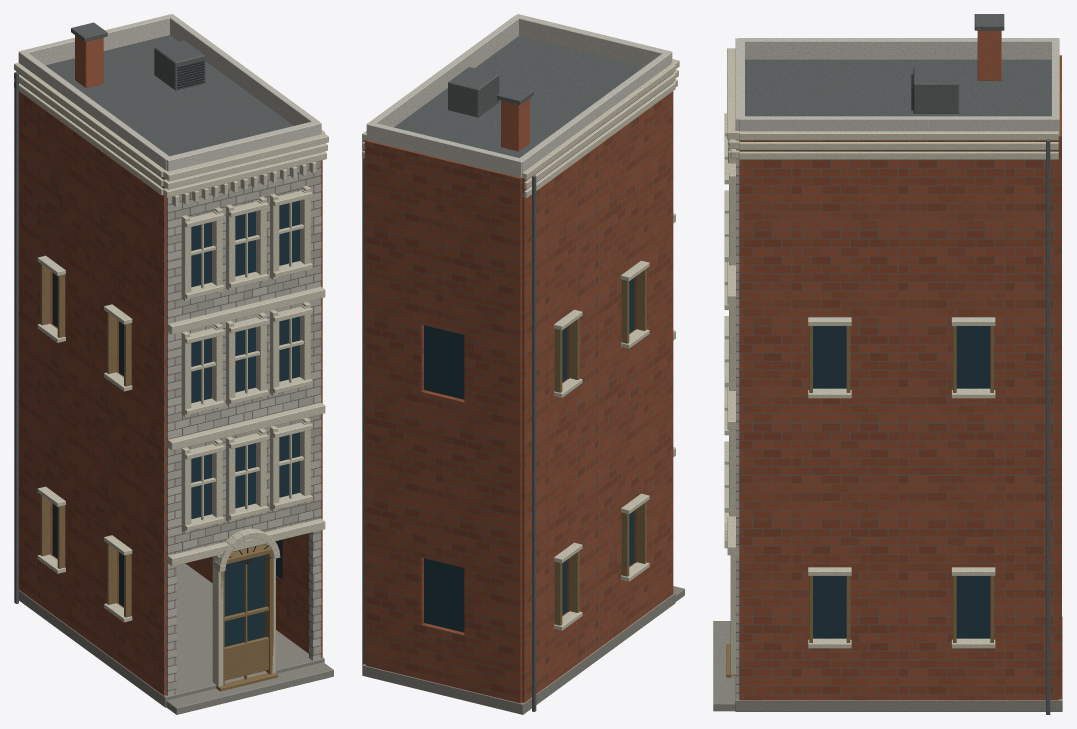
Rendered from OFFC15_lod1.glb.
The picture shows the model from 3 angles, left to right: view 1: azimuth 30°, elevation 25°; view 2: azimuth 150°, elevation 25°; view 3: azimuth 270°, elevation 25°; orthographic projection. The views are drawn at different scales.
Visible parts, largest first — view 1: OFFC15_LOD1; view 2: OFFC15_LOD1; view 3: OFFC15_LOD1.
Part boxes in pixels (x1,y1,x2,y2): OFFC15_LOD1: (14, 14, 333, 714); OFFC15_LOD1: (362, 14, 684, 714); OFFC15_LOD1: (713, 14, 1062, 714).
Size of the model in its own units: 4.11 by 13.05 by 6.57.
11 materials, 9 textured.
